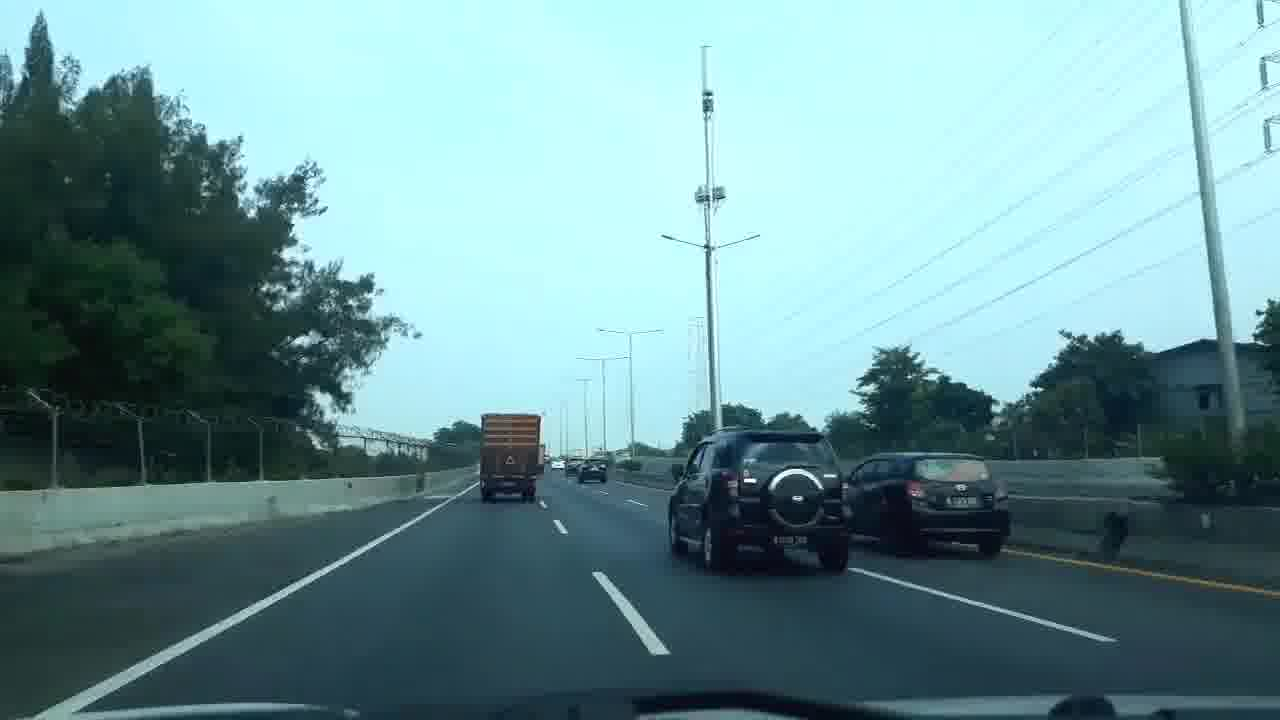plate_positive: (771, 535, 808, 548), (945, 496, 978, 508)
